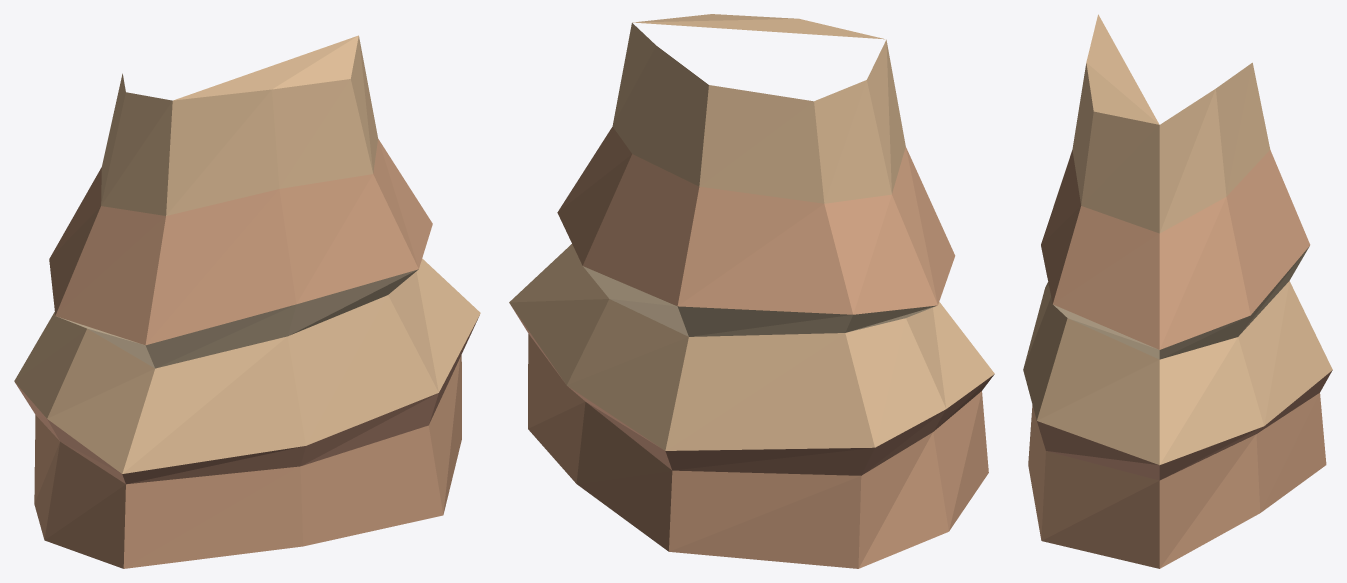
3 views of the same model, side by side, from view 1: azimuth 30°, elevation 25°; view 2: azimuth 150°, elevation 25°; view 3: azimuth 270°, elevation 25° (orthographic). The views are drawn at different scales.
Bounding box in the file's own units: 29.34 × 28.97 × 19.44.
